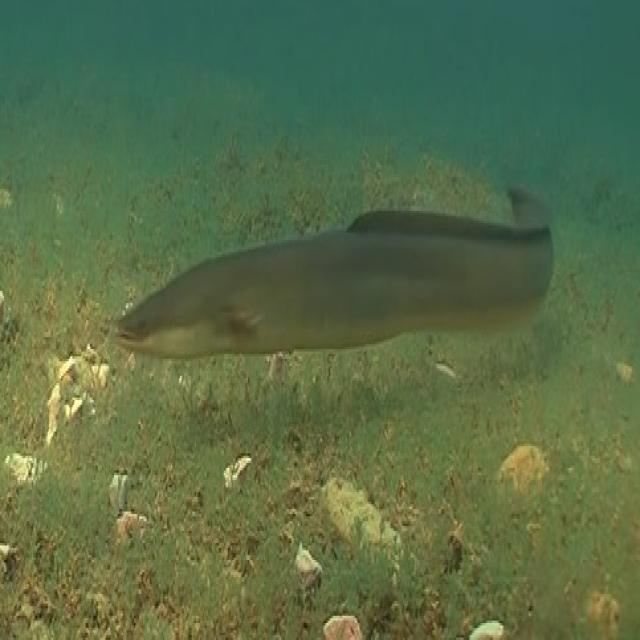Freshwater-Eel: (70, 156, 608, 457)
